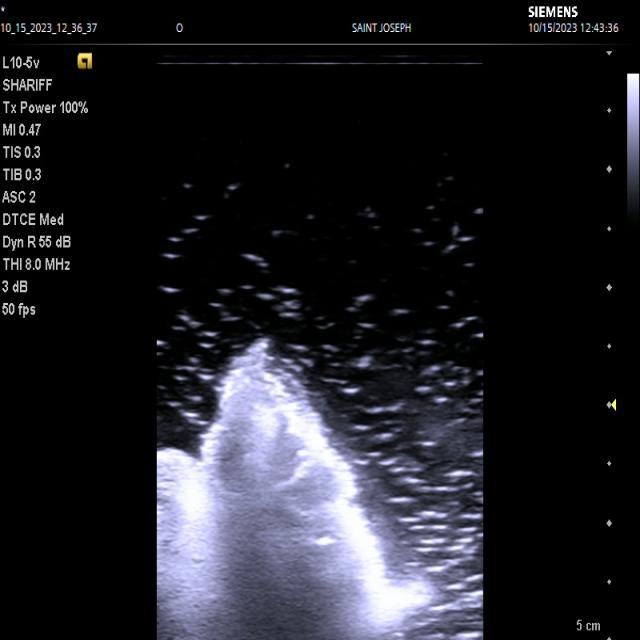tissue: (157, 338, 435, 640)
